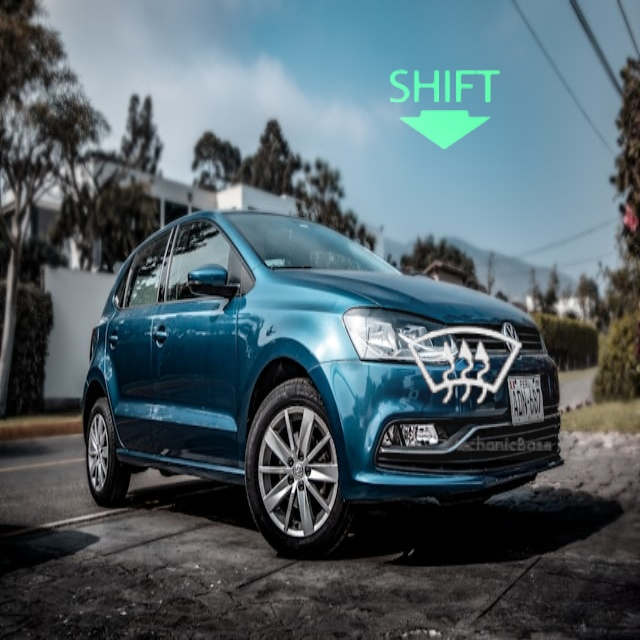symbol: (373, 274, 559, 460), (369, 32, 516, 179)
